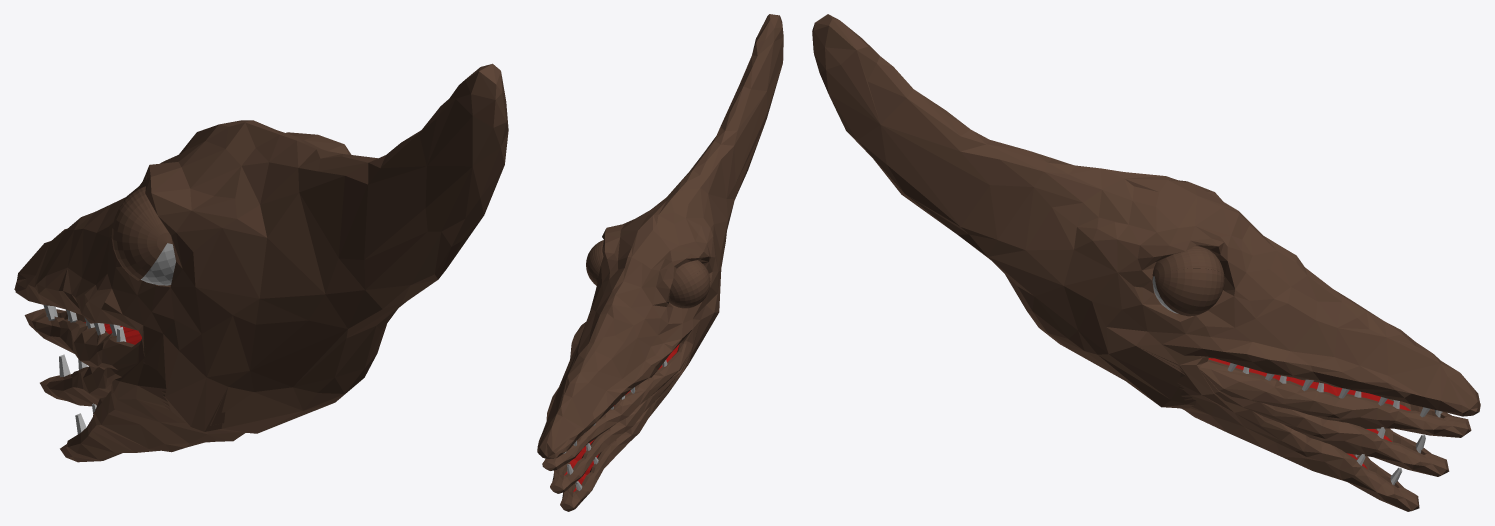
File: Pterodactyl Head.obj
The picture shows the model from 3 angles, left to right: view 1: azimuth 30°, elevation 25°; view 2: azimuth 150°, elevation 25°; view 3: azimuth 270°, elevation 25°; orthographic projection. The views are drawn at different scales.
Visible parts, largest first — view 1: head, mouth_closed, mouth_opened, eyes_closed, mouth_mid, eyes_opened; view 2: head, mouth_closed, mouth_opened, mouth_mid, eyes_closed, eyes_opened; view 3: head, mouth_closed, mouth_opened, mouth_mid, eyes_closed, eyes_opened.
Boxes of the visible parts, bbox=[...] form: head: bbox=[14, 63, 508, 410]; mouth_closed: bbox=[24, 306, 333, 433]; mouth_opened: bbox=[60, 325, 253, 462]; eyes_closed: bbox=[111, 186, 168, 280]; mouth_mid: bbox=[40, 331, 230, 431]; eyes_opened: bbox=[122, 186, 172, 244]; head: bbox=[537, 14, 783, 458]; mouth_closed: bbox=[542, 312, 718, 470]; mouth_opened: bbox=[560, 320, 700, 511]; mouth_mid: bbox=[550, 328, 698, 493]; eyes_closed: bbox=[586, 240, 710, 308]; eyes_opened: bbox=[591, 240, 705, 289]; head: bbox=[812, 14, 1480, 417]; mouth_closed: bbox=[1063, 344, 1471, 437]; mouth_opened: bbox=[1136, 344, 1419, 511]; mouth_mid: bbox=[1137, 346, 1449, 476]; eyes_closed: bbox=[1155, 247, 1224, 316]; eyes_opened: bbox=[1152, 246, 1224, 276].
Bounding box in the file's own units: 0.3843 × 1.08 × 1.33.
